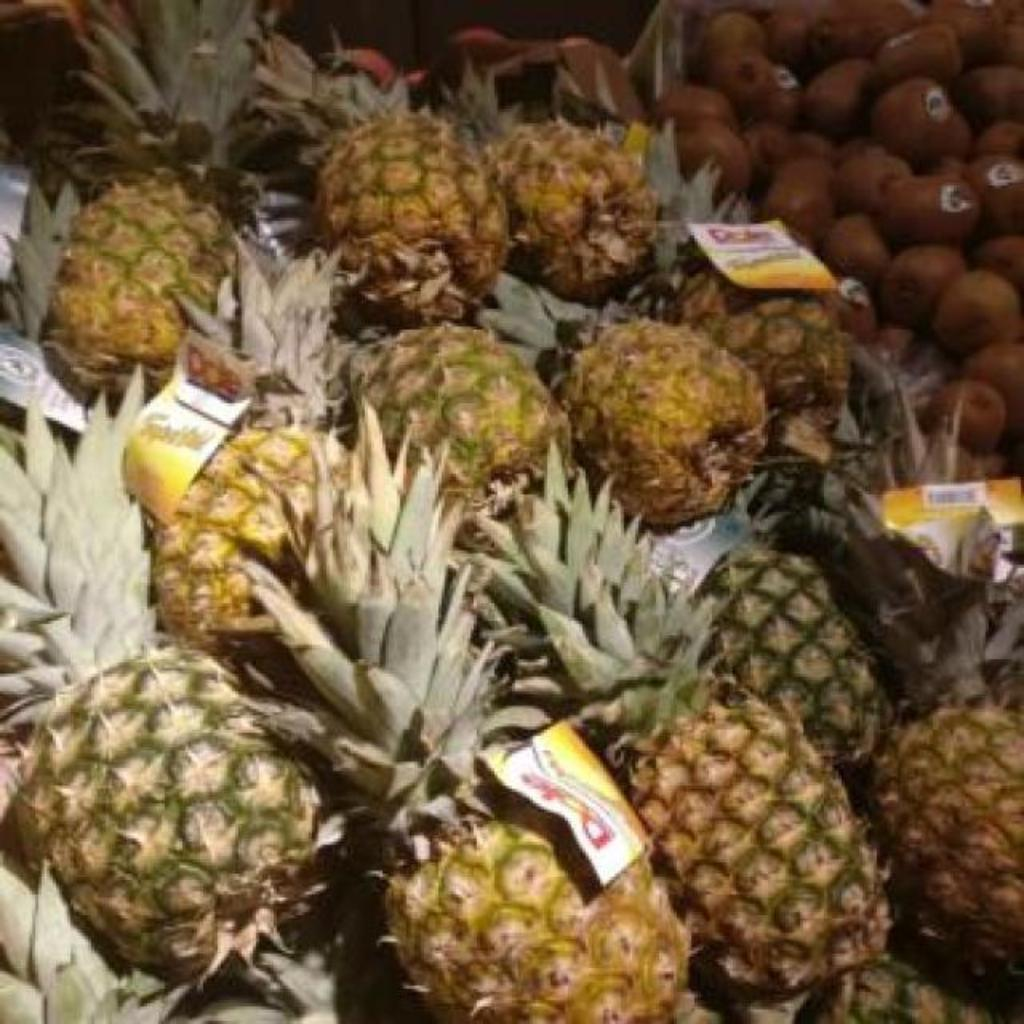pineapple: (232, 406, 688, 1024), (482, 454, 886, 999), (822, 534, 1024, 1023), (12, 652, 310, 981), (46, 0, 253, 395), (636, 122, 844, 409), (0, 372, 152, 721), (318, 112, 508, 326), (566, 320, 764, 525), (702, 546, 888, 763), (356, 330, 566, 499), (158, 426, 312, 645), (490, 126, 656, 301), (240, 244, 336, 423), (478, 272, 594, 367)
